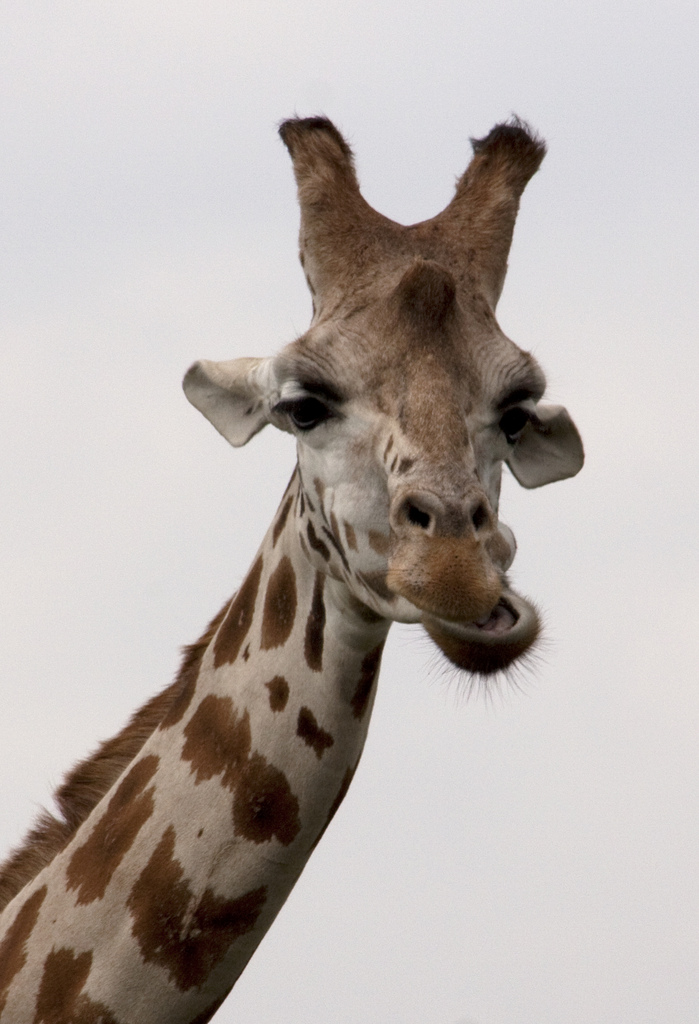giraffe: (68, 97, 614, 987)
